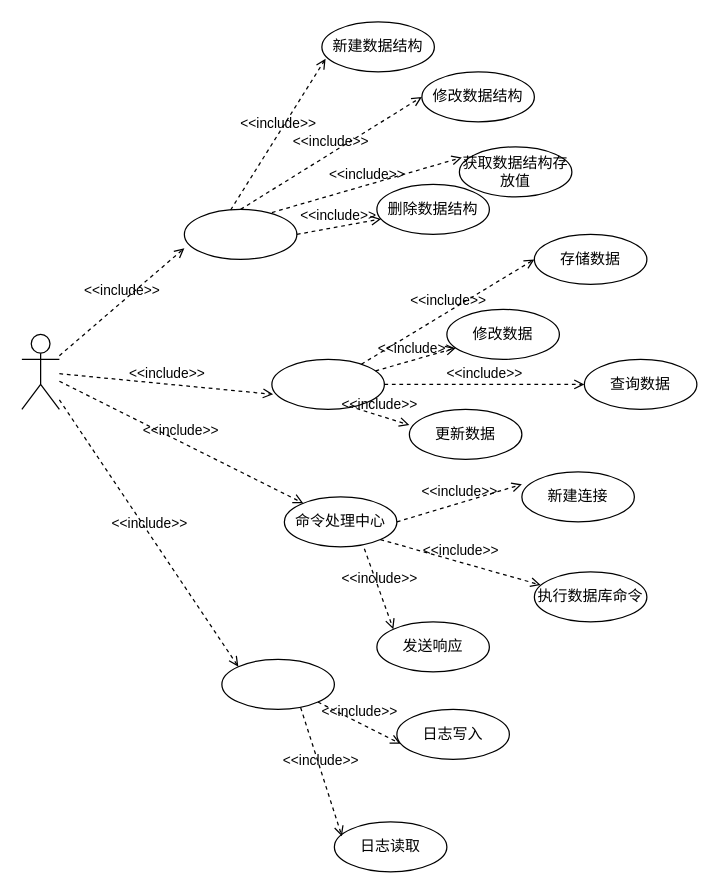
The diagram is 719 pixels wide and 894 high, and some of its shapes have lost their labels. The centre of each missing label's shape, as x and y in pixels:
Actor: the point at 40,371
工具及日志模块: the point at 277,683
底层存储: the point at 240,233
数据库模块: the point at 327,383
